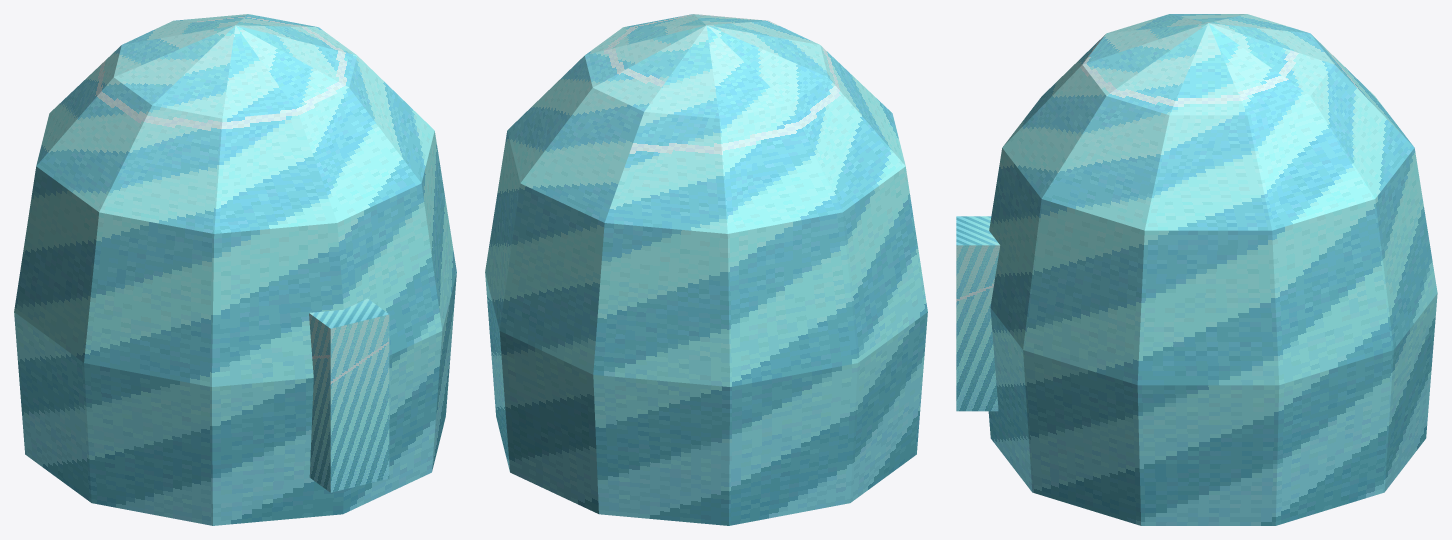
Rendered from capacete_de_diamante.glb.
3 renders of one model, left to right at view 1: azimuth 30°, elevation 25°; view 2: azimuth 150°, elevation 25°; view 3: azimuth 270°, elevation 25°, orthographic.
Parts seen in each view (by area): view 1: capacete_de_diamante; view 2: capacete_de_diamante; view 3: capacete_de_diamante.
Part boxes in pixels (<box>): capacete_de_diamante: <box>14,14,456,525</box>; capacete_de_diamante: <box>485,14,927,525</box>; capacete_de_diamante: <box>956,14,1437,525</box>.
Size of the model in its own units: 0.3804 by 0.4 by 0.42.
Materials: 1 (1 with a texture image).
